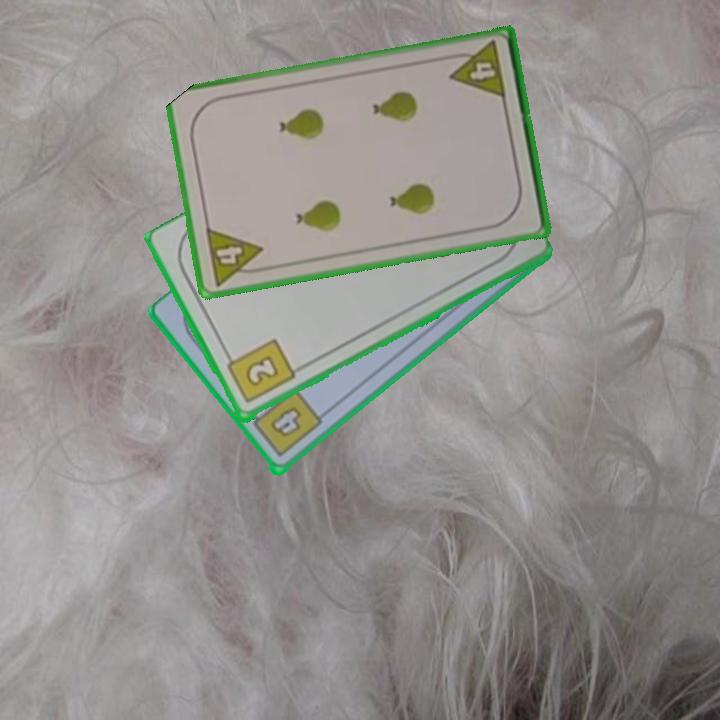2b: (222, 336, 298, 407)
4b: (245, 386, 325, 461)
4p: (202, 224, 269, 289), (444, 38, 509, 102)
